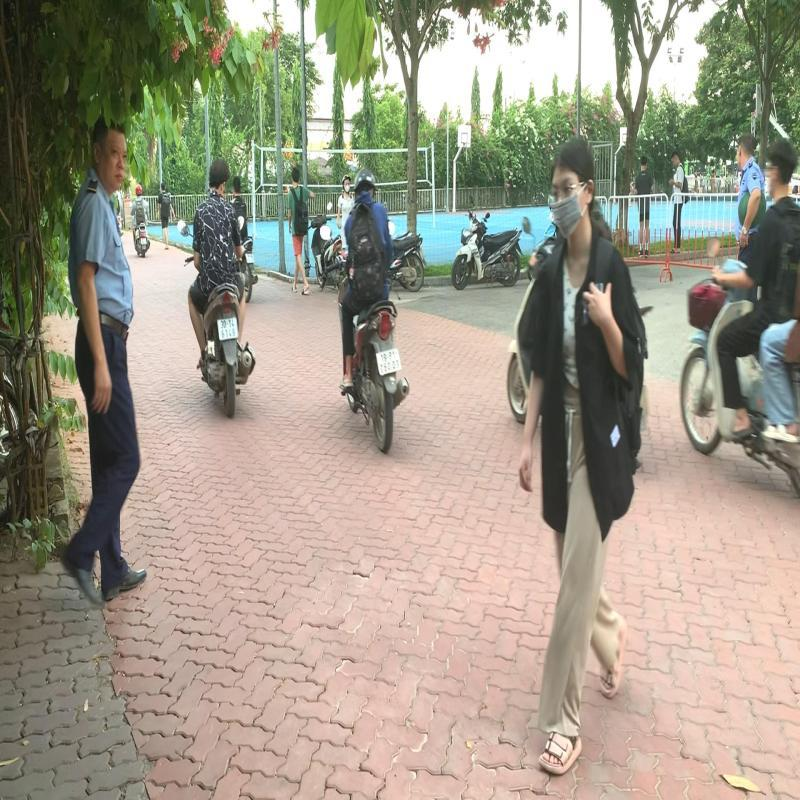nohelmet: (205, 156, 233, 194)
